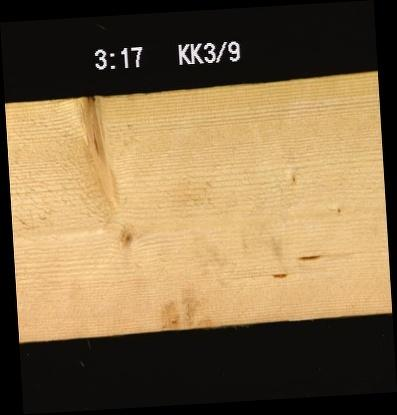small_knot: (116, 221, 135, 252)
